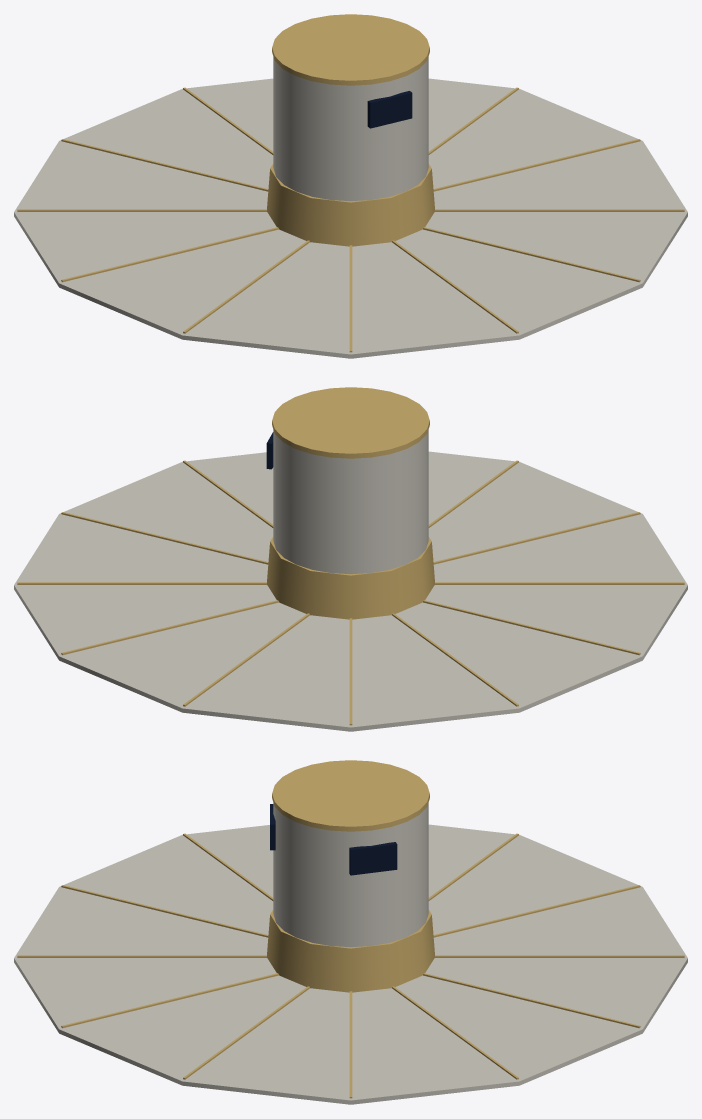
The model's file is gaia.glb.
The picture shows the model from 3 angles, top to bottom: view 1: azimuth 30°, elevation 25°; view 2: azimuth 150°, elevation 25°; view 3: azimuth 270°, elevation 25°; orthographic projection.
Size of the model in its own units: 10 by 2.78 by 10.
